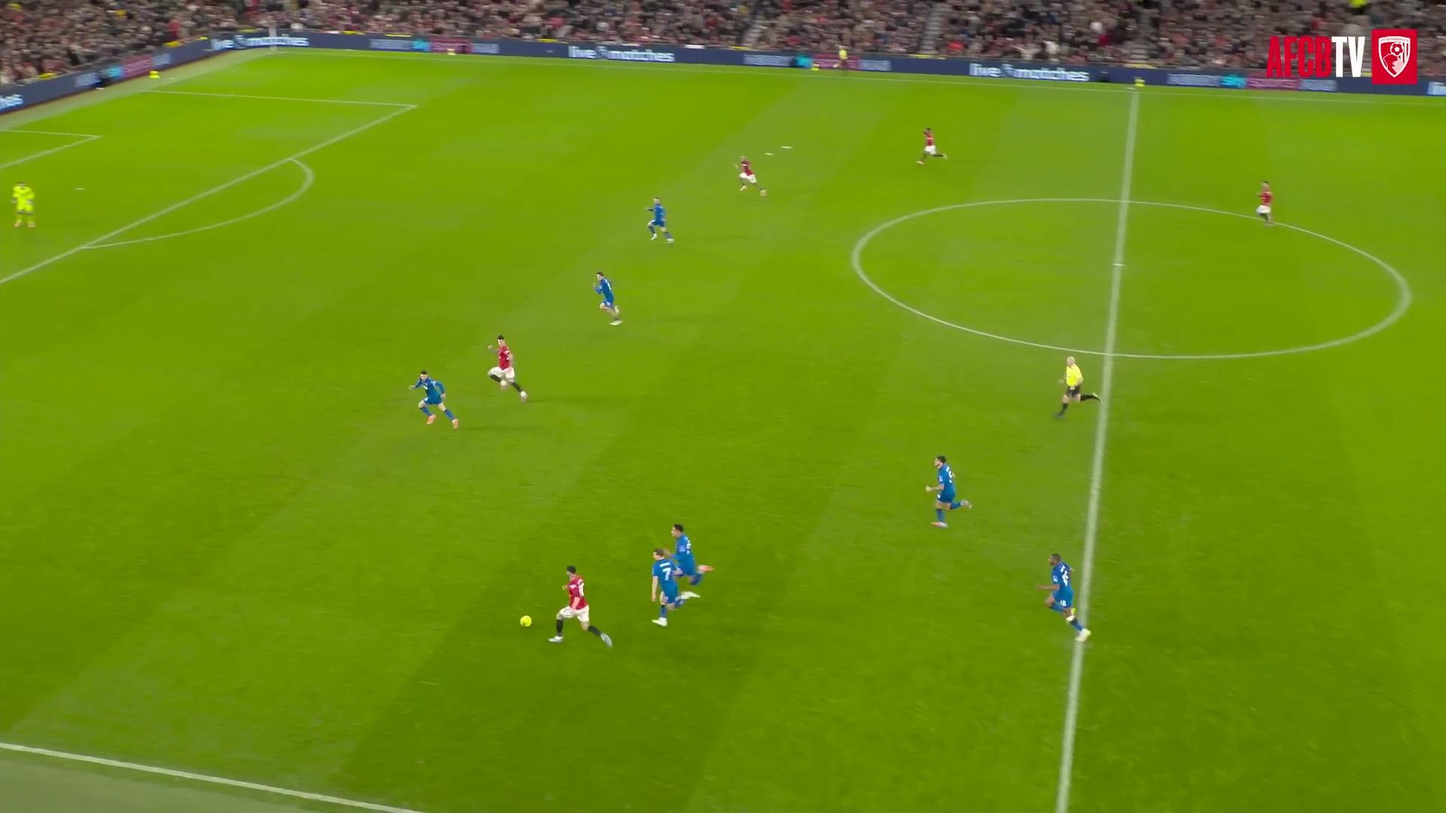football: (520, 615, 532, 626)
player: (548, 565, 612, 647), (1039, 554, 1091, 641), (650, 548, 698, 626), (926, 455, 971, 527), (410, 370, 459, 428), (671, 523, 712, 586), (488, 335, 527, 401), (594, 271, 621, 324), (648, 196, 673, 242), (917, 127, 946, 164), (12, 181, 35, 227), (1255, 181, 1272, 225), (737, 156, 757, 190)
referee: (1054, 357, 1099, 417), (838, 44, 847, 73)
